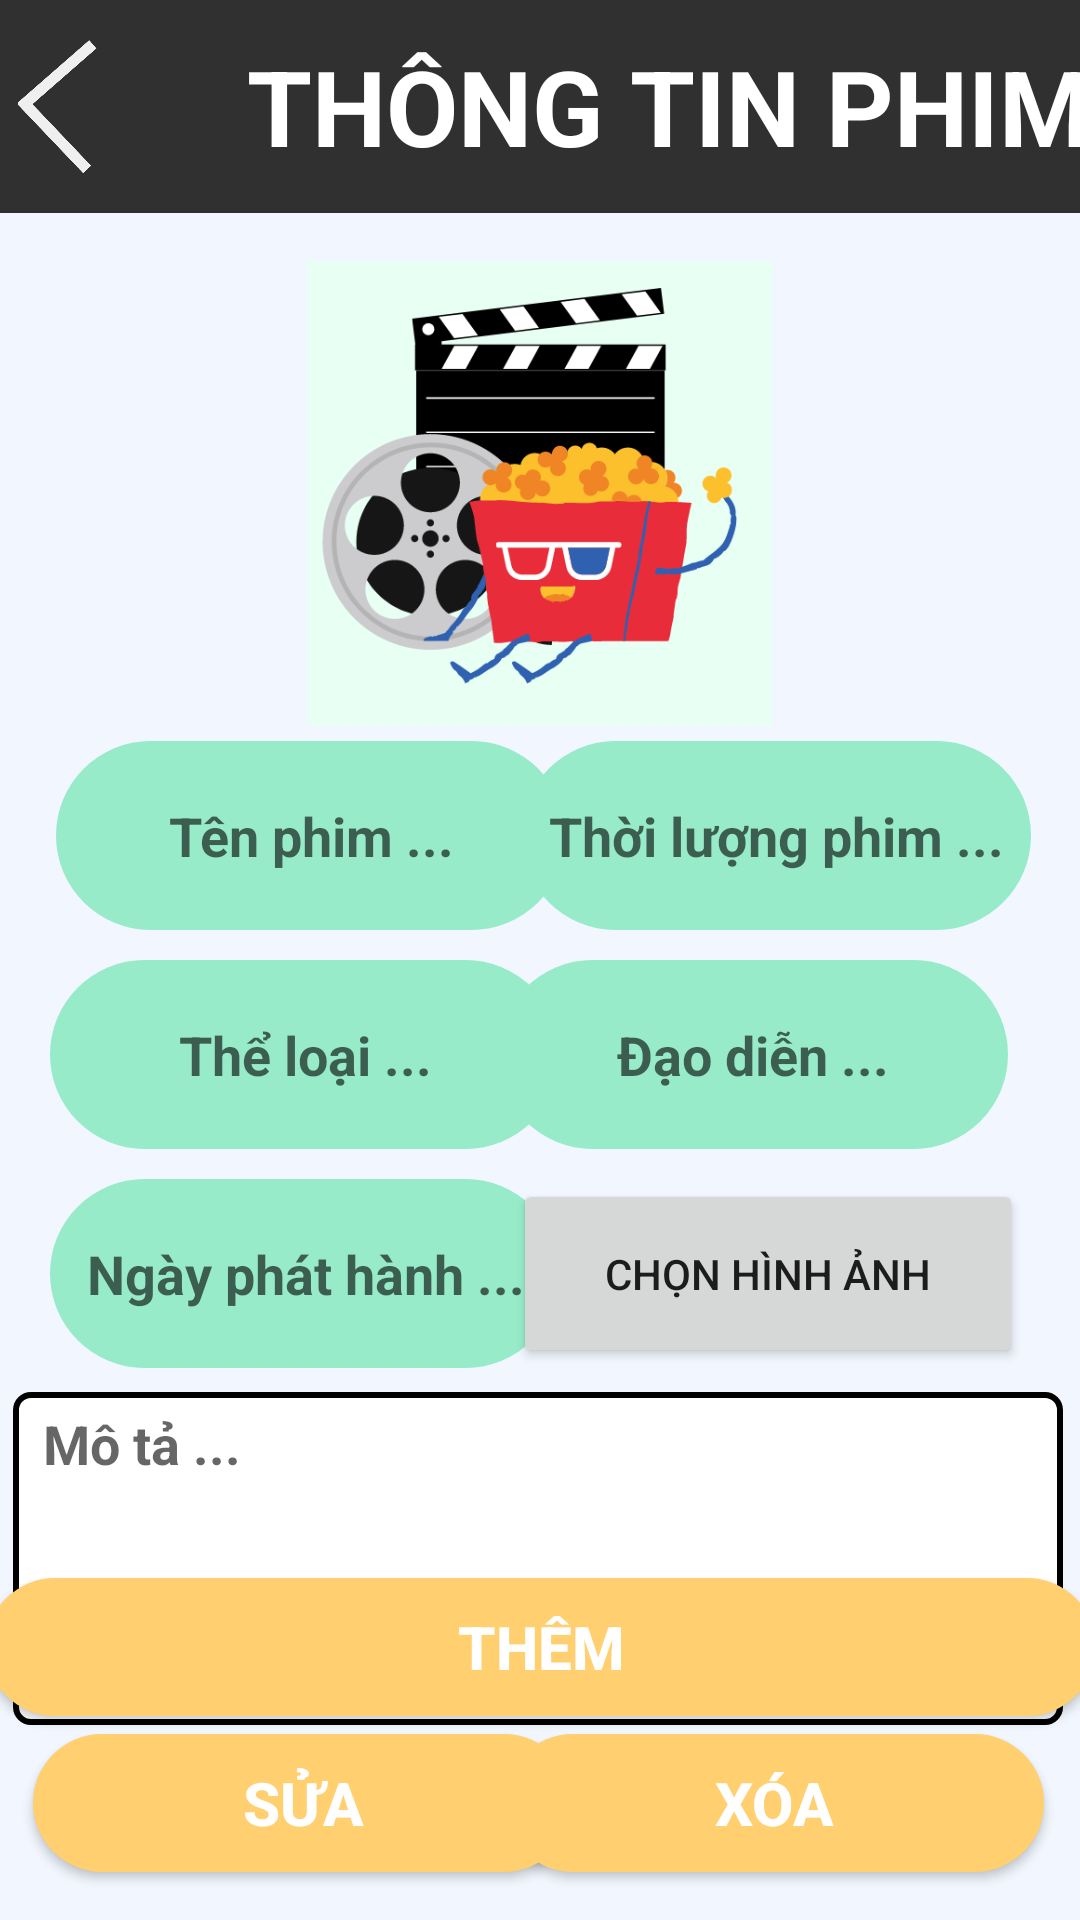

Named icons in this screenshot (1080x1920) and their bounding boxes, (x1, y1, x2, y2):
turnback: (18, 40, 96, 173)
